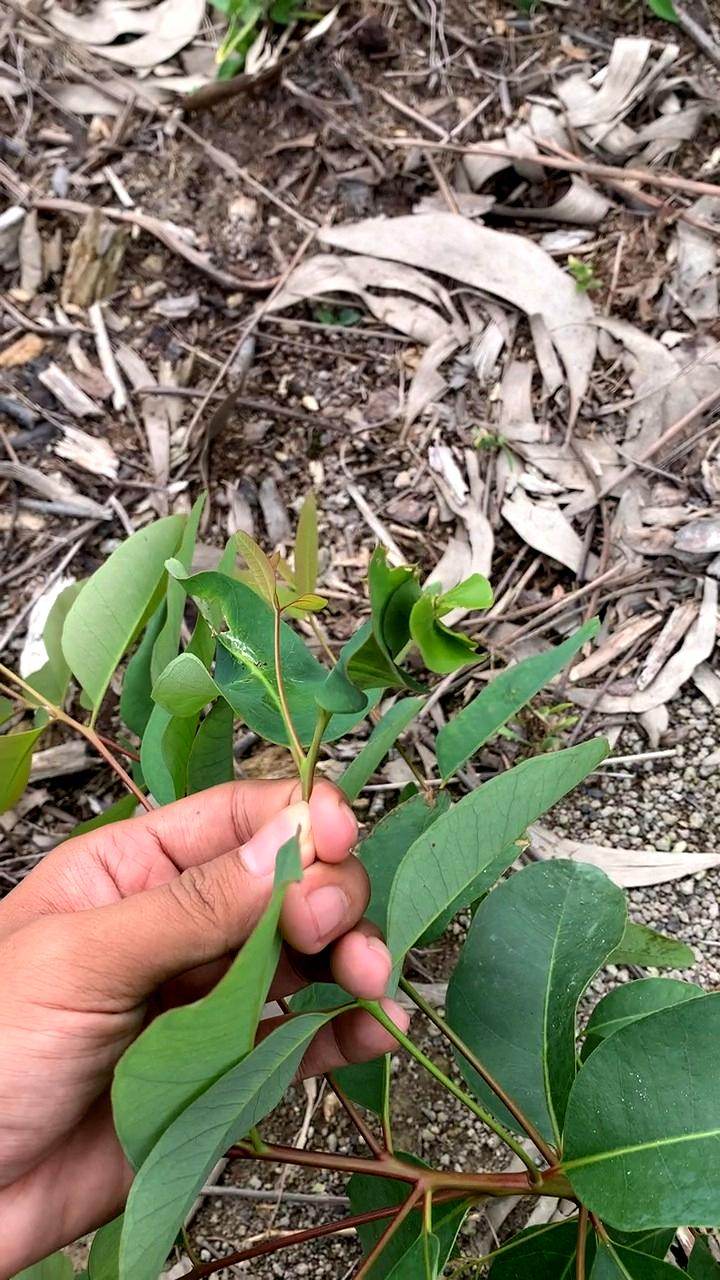Leaf Roller - Leaf: (325, 563, 497, 721)
